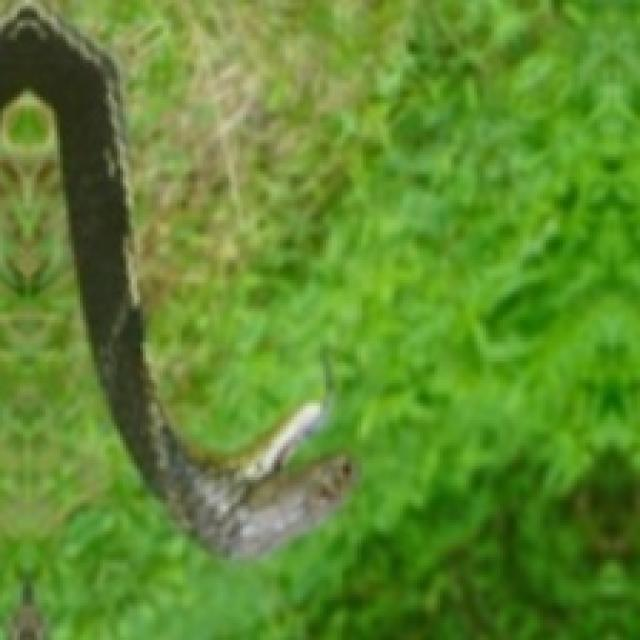king cobra: (0, 0, 354, 557), (0, 0, 351, 557)
